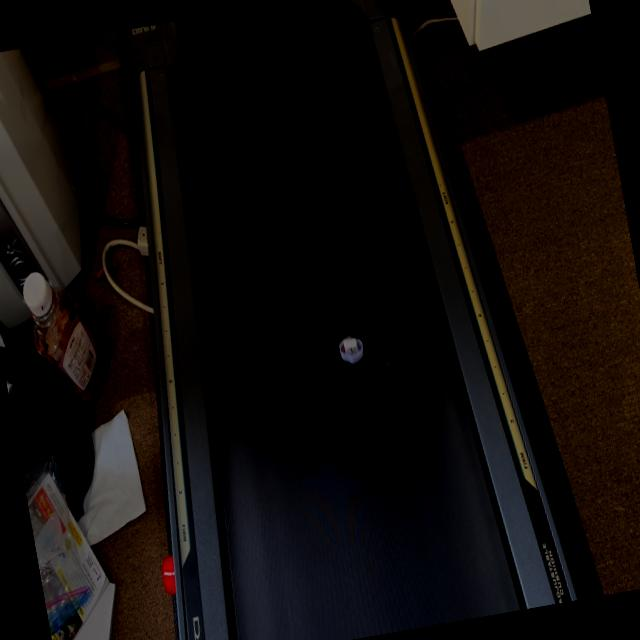Trash: (335, 328, 367, 367)
